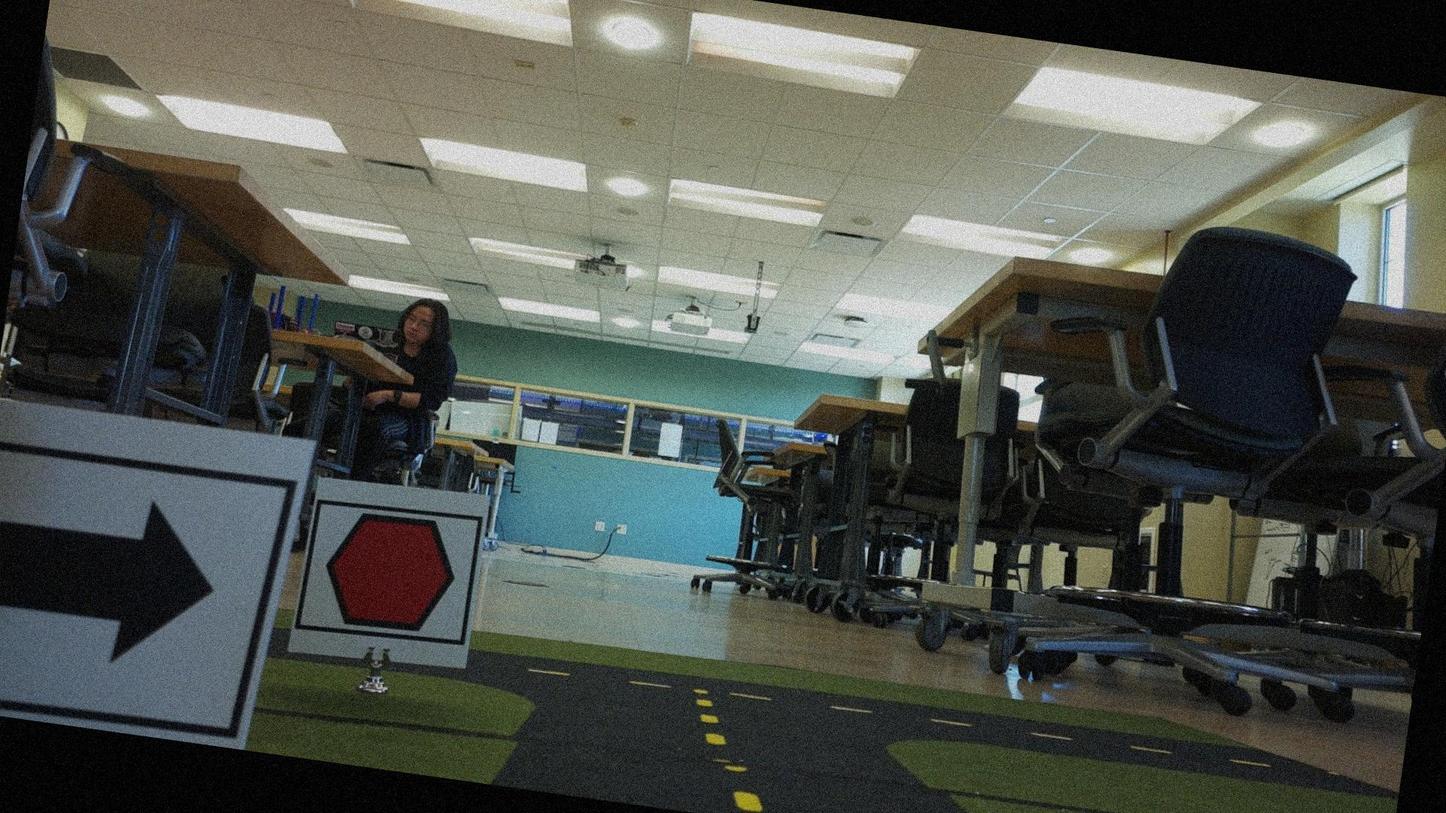stop: (302, 501, 482, 647)
turnright: (0, 444, 282, 735)
yellowline: (679, 696, 776, 812)
